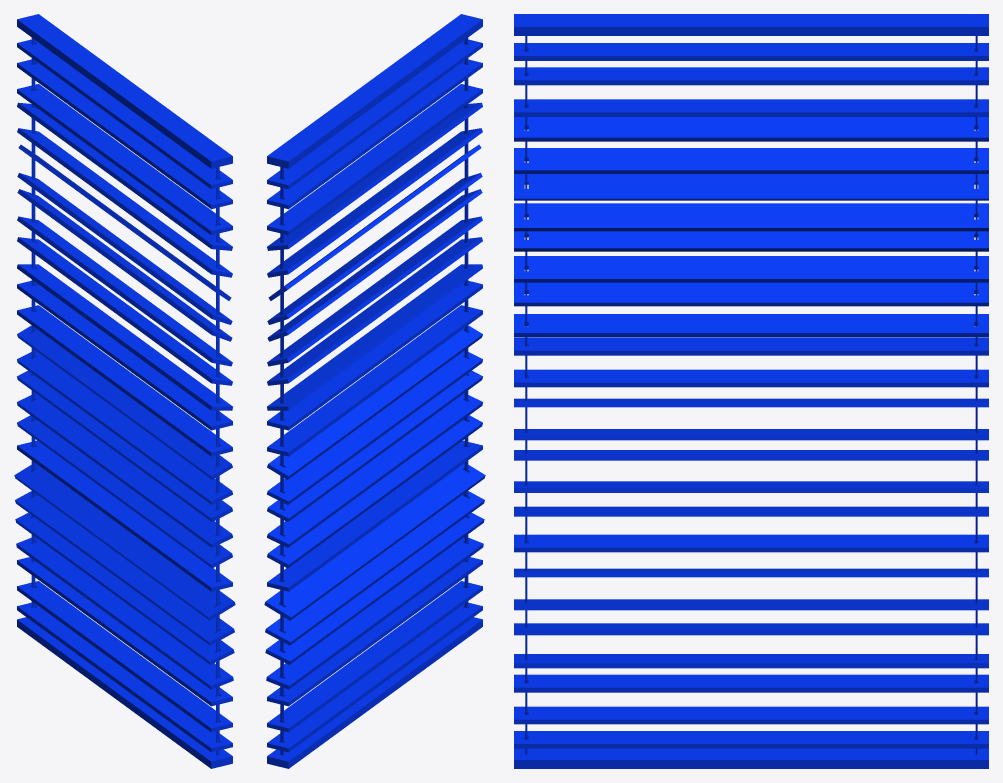
File: SM_MetalBlinds_001.fbx
3 views of the same model, side by side, from view 1: azimuth 30°, elevation 25°; view 2: azimuth 150°, elevation 25°; view 3: azimuth 270°, elevation 25° (orthographic). The views are drawn at different scales.
Parts seen in each view (by area): view 1: MetalBlinds; view 2: MetalBlinds; view 3: MetalBlinds.
Part boxes in pixels (<box>): MetalBlinds: <box>14,14,235,768</box>; MetalBlinds: <box>264,14,485,768</box>; MetalBlinds: <box>514,14,988,768</box>.
Size of the model in its own units: 7 by 150 by 87.
